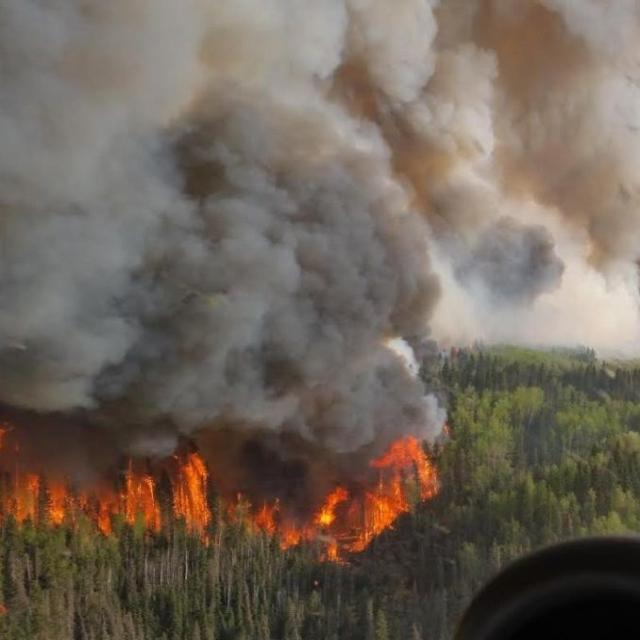Fire: (0, 451, 443, 546)
Smoke: (0, 0, 640, 443)
